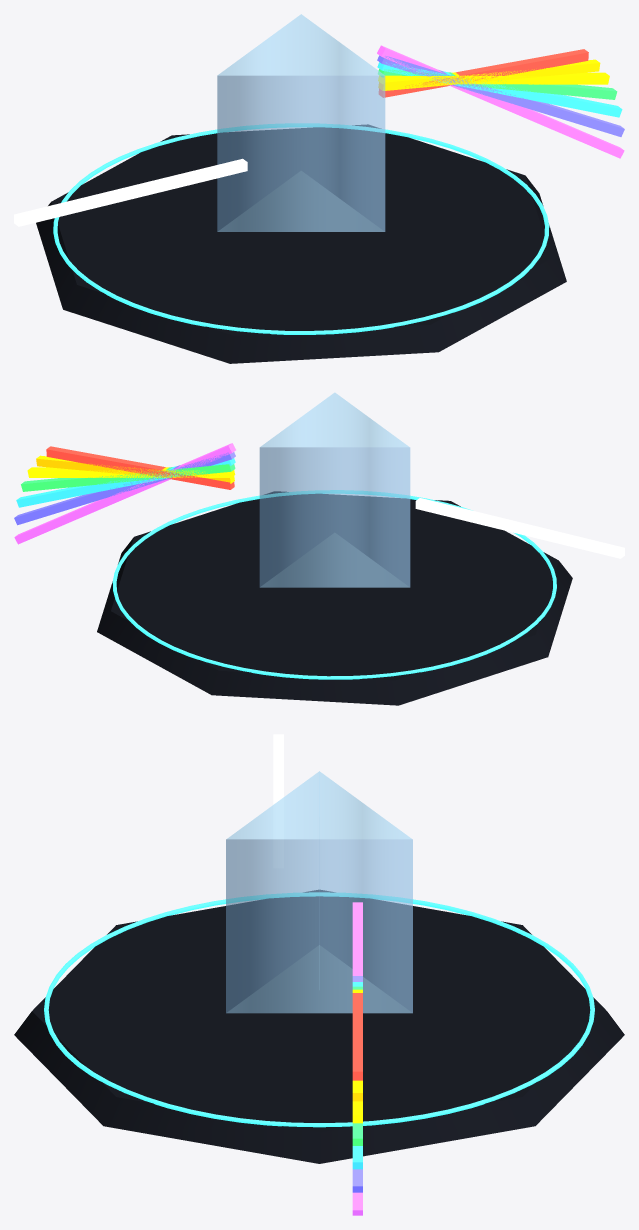
Rendered from prism.glb.
The picture shows the model from 3 angles, top to bottom: view 1: azimuth 30°, elevation 25°; view 2: azimuth 150°, elevation 25°; view 3: azimuth 270°, elevation 25°; orthographic projection. The views are drawn at different scales.
Parts seen in each view (by area): view 1: Platform, Prism, PlatformRing, WhiteBeam, Ray5, Ray6, Ray4, Ray1, Ray0, Ray2, Ray3; view 2: Platform, Prism, PlatformRing, WhiteBeam, Ray6, Ray0, Ray3, Ray5, Ray2, Ray4, Ray1; view 3: Platform, Prism, PlatformRing, WhiteBeam, Ray6, Ray0.
Part boxes in pixels (x1,y1,x2,y2): Platform: [36, 124, 566, 363]; Prism: [217, 14, 385, 231]; PlatformRing: [53, 123, 549, 334]; WhiteBeam: [14, 158, 247, 226]; Ray5: [377, 55, 624, 136]; Ray6: [377, 45, 624, 158]; Ray4: [377, 62, 622, 117]; Ray1: [378, 59, 600, 90]; Ray0: [379, 49, 588, 97]; Ray2: [378, 72, 609, 84]; Ray3: [378, 69, 617, 99]; Platform: [97, 491, 572, 705]; Prism: [259, 392, 410, 587]; PlatformRing: [112, 490, 556, 679]; WhiteBeam: [415, 498, 624, 558]; Ray6: [14, 443, 235, 544]; Ray0: [46, 446, 234, 489]; Ray3: [21, 464, 235, 491]; Ray5: [14, 452, 235, 525]; Ray2: [27, 467, 235, 477]; Ray4: [16, 458, 235, 507]; Ray1: [36, 455, 234, 483]; Platform: [14, 890, 624, 1163]; Prism: [226, 771, 412, 1013]; PlatformRing: [44, 892, 594, 1127]; WhiteBeam: [273, 734, 283, 867]; Ray6: [352, 902, 362, 1215]; Ray0: [352, 993, 362, 1080].
Bounding box in the file's own units: 6.87 × 2.01 × 5.1.
